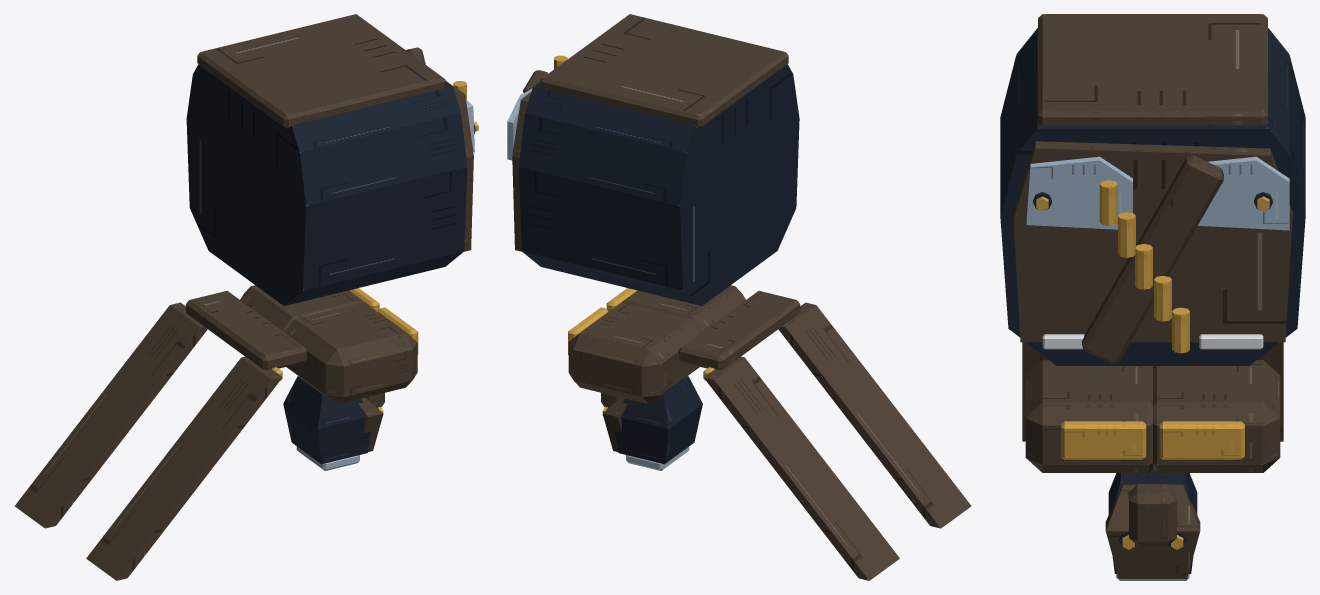
Rendered from gunslinger.glb.
3 views of the same model, side by side, from view 1: azimuth 30°, elevation 25°; view 2: azimuth 150°, elevation 25°; view 3: azimuth 270°, elevation 25° (orthographic). The views are drawn at different scales.
Parts seen in each view (by area): view 1: chest, hips, arm_R, forearm_L, arm_L; view 2: chest, hips, arm_L, forearm_L, arm_R; view 3: chest, arm_L, arm_R, forearm_L, hips.
Part boxes in pixels (x1,y1,x2,y2): chest: (186,14,478,305); hips: (14,290,307,580); arm_R: (285,302,418,404); forearm_L: (283,376,383,470); arm_L: (240,285,384,407); chest: (507,14,799,305); hips: (678,291,971,580); arm_L: (568,302,701,407); forearm_L: (602,376,702,470); arm_R: (606,285,745,370); chest: (1000,14,1305,365); arm_L: (1129,360,1280,545); arm_R: (1025,360,1152,472); forearm_L: (1105,470,1200,580); hips: (1022,342,1283,441).
Size of the model in its own units: 0.563 by 0.5845 by 0.304.
5 materials, 5 textured.
